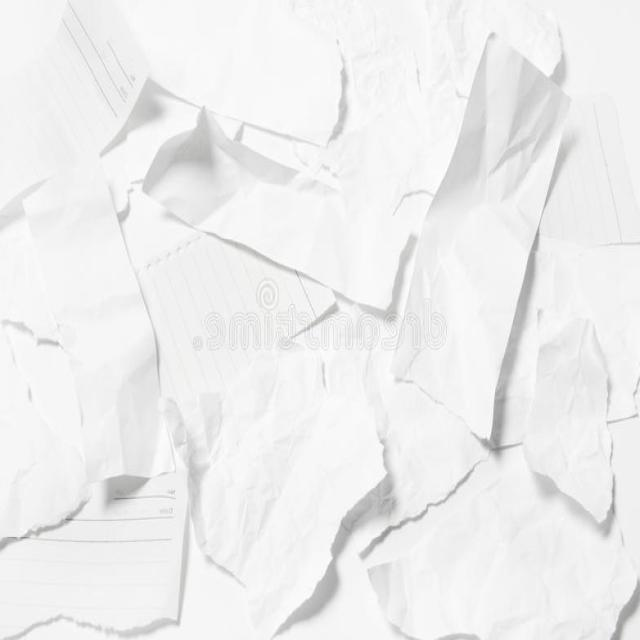kertas: (391, 36, 573, 445), (166, 348, 386, 640), (0, 161, 164, 492), (137, 112, 397, 307), (175, 0, 347, 177), (11, 0, 151, 173), (525, 318, 616, 528)
